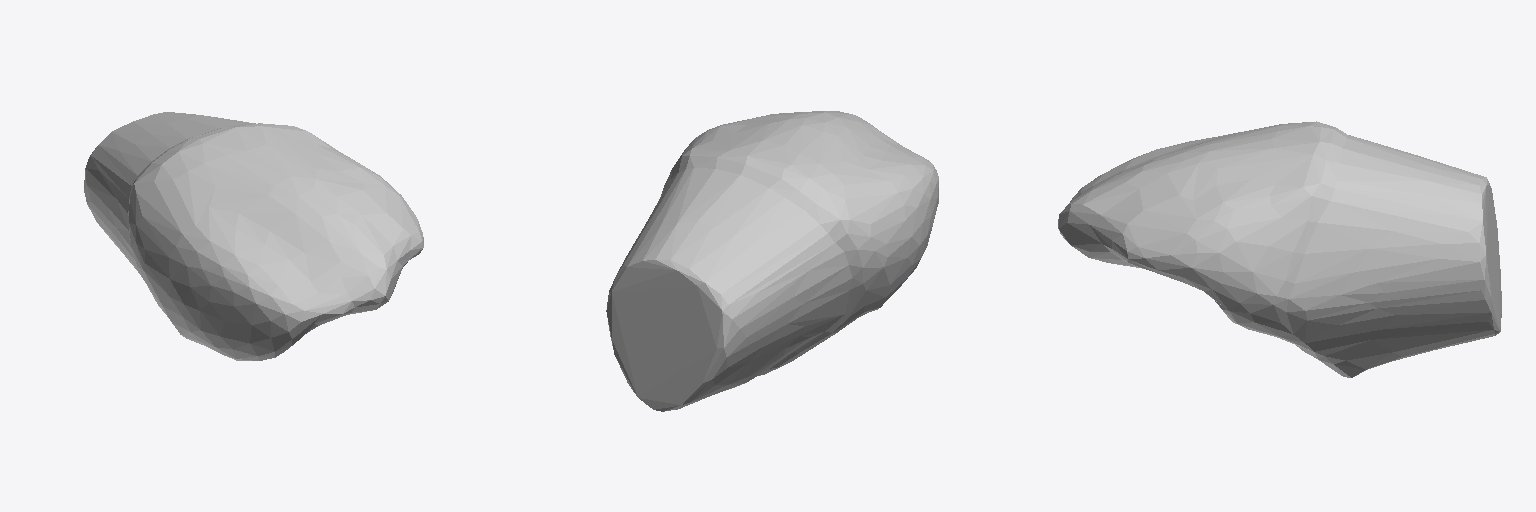
The model's file is local_t43_7780_si.OBJ.
The picture shows the model from 3 angles: view 1: azimuth 30°, elevation 25°; view 2: azimuth 150°, elevation 25°; view 3: azimuth 270°, elevation 25°; orthographic projection.
Visible parts, largest first — view 1: Group22124; view 2: Group22124; view 3: Group22124.
Part boxes in pixels (bbox=[...]): Group22124: bbox=[84, 112, 423, 360]; Group22124: bbox=[606, 111, 938, 411]; Group22124: bbox=[1058, 121, 1501, 377].
Size of the model in its own units: 7.24 by 6.84 by 12.05.